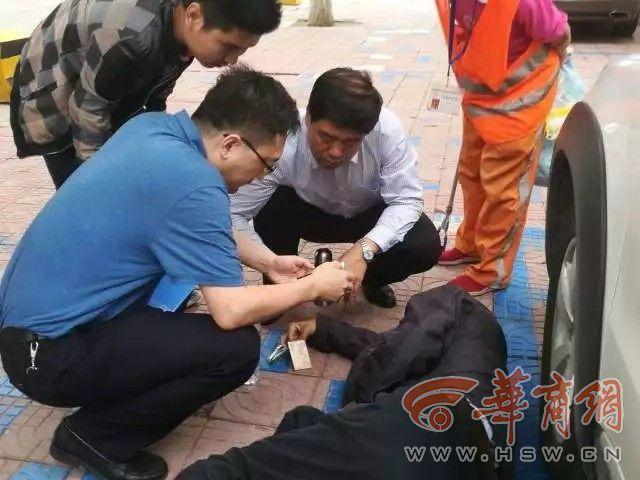bending: (1, 77, 353, 473), (1, 1, 280, 183), (243, 63, 443, 305), (431, 2, 574, 315)
down: (143, 271, 518, 480)
